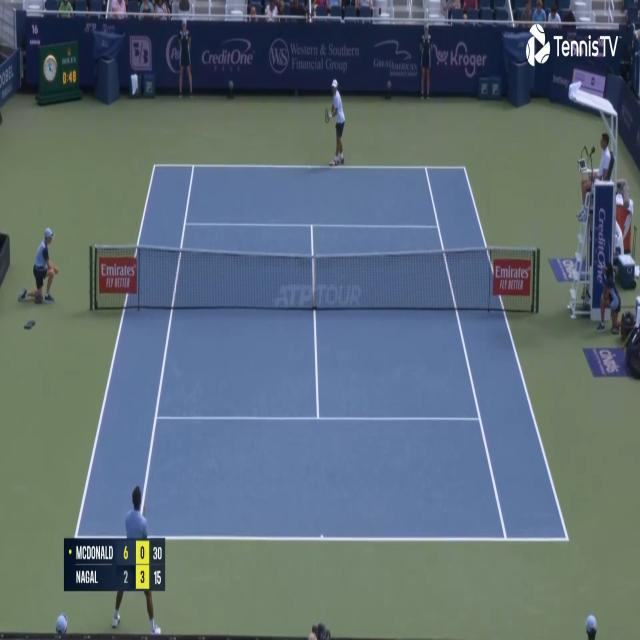tennis-player: (112, 485, 164, 633), (323, 76, 348, 169)
